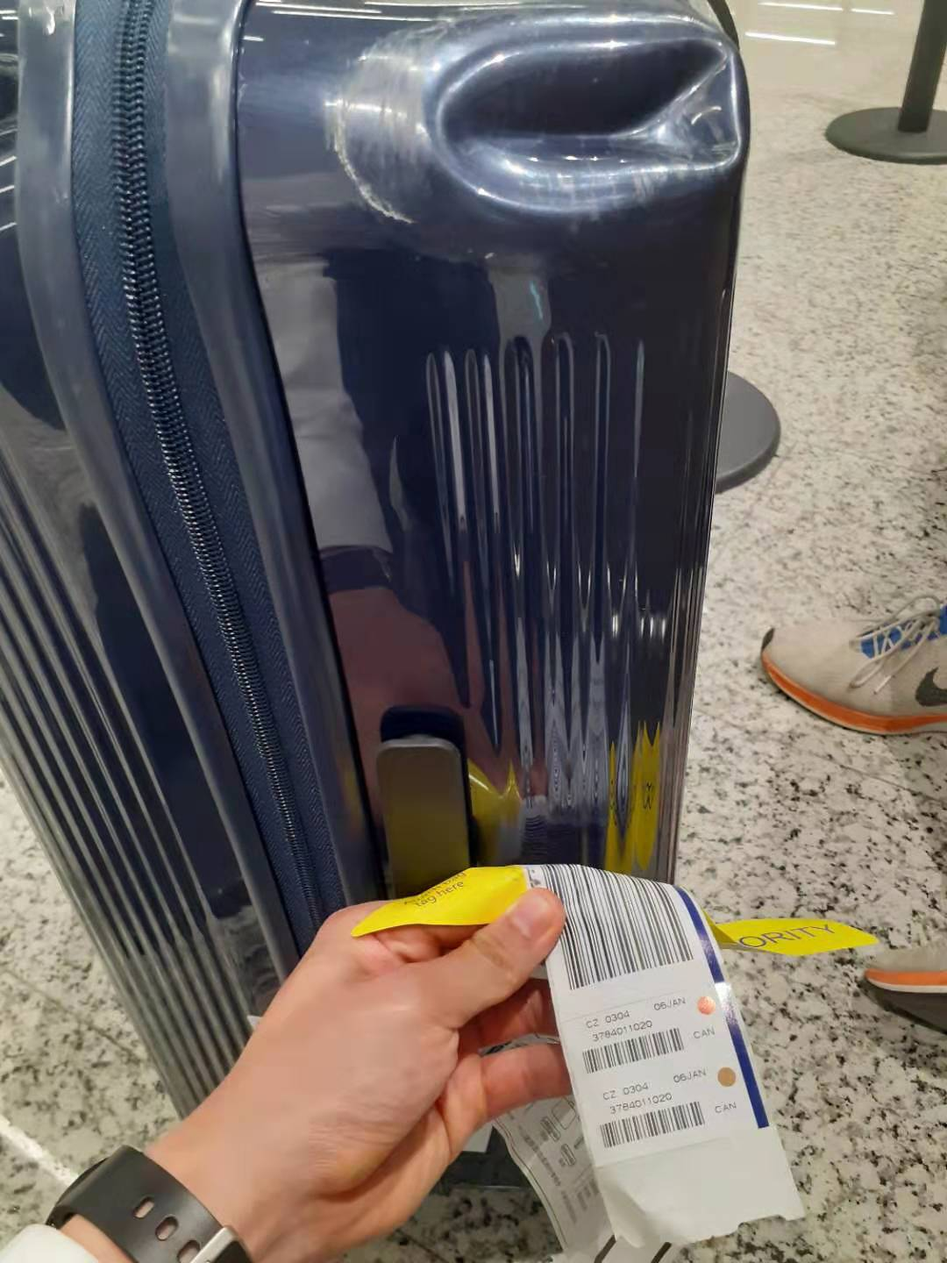hollow: (427, 34, 750, 215)
